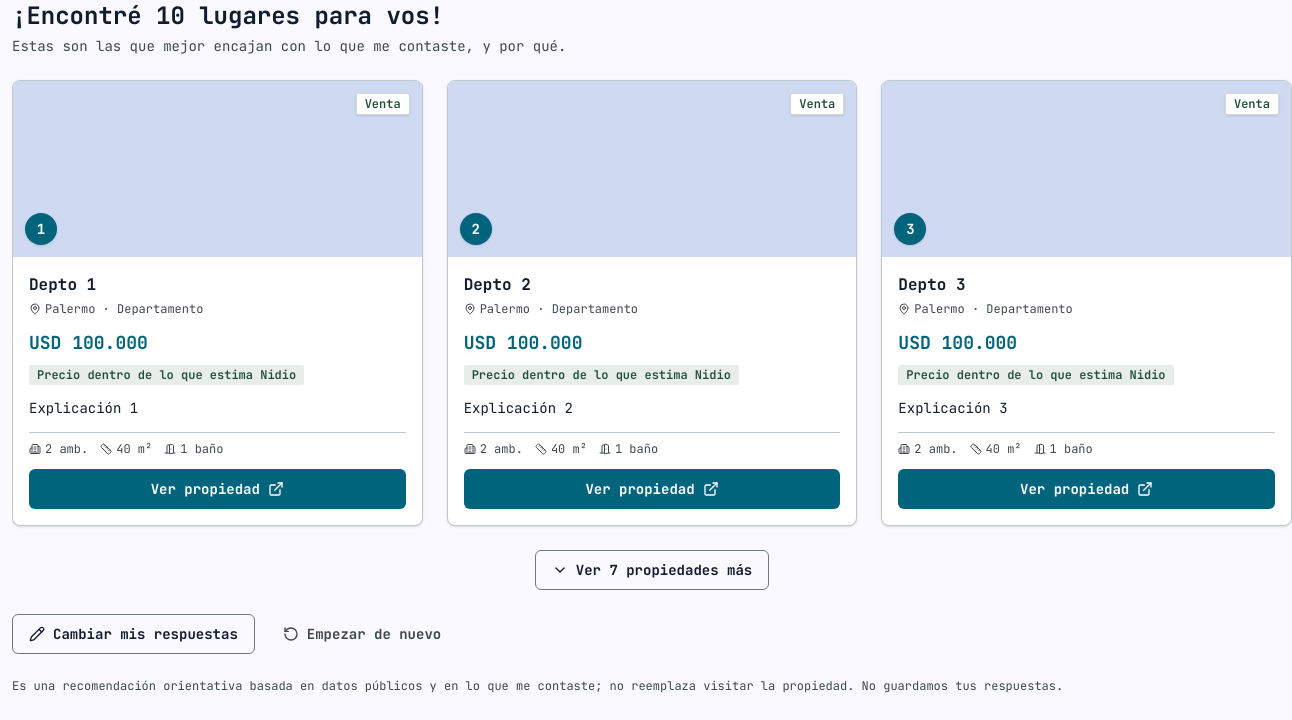
RecommendationResults: más resultados › con pase muestra 3 y un botón para ver el resto, que las muestra todas
Expected: the number of headings "Depto 1" is 3, 29,274 -> 96,295; 464,274 -> 531,295; 898,274 -> 966,295
Click the button "Ver 7 propiedades más": click(652, 570) 535,550 -> 769,590
(page scrolled)
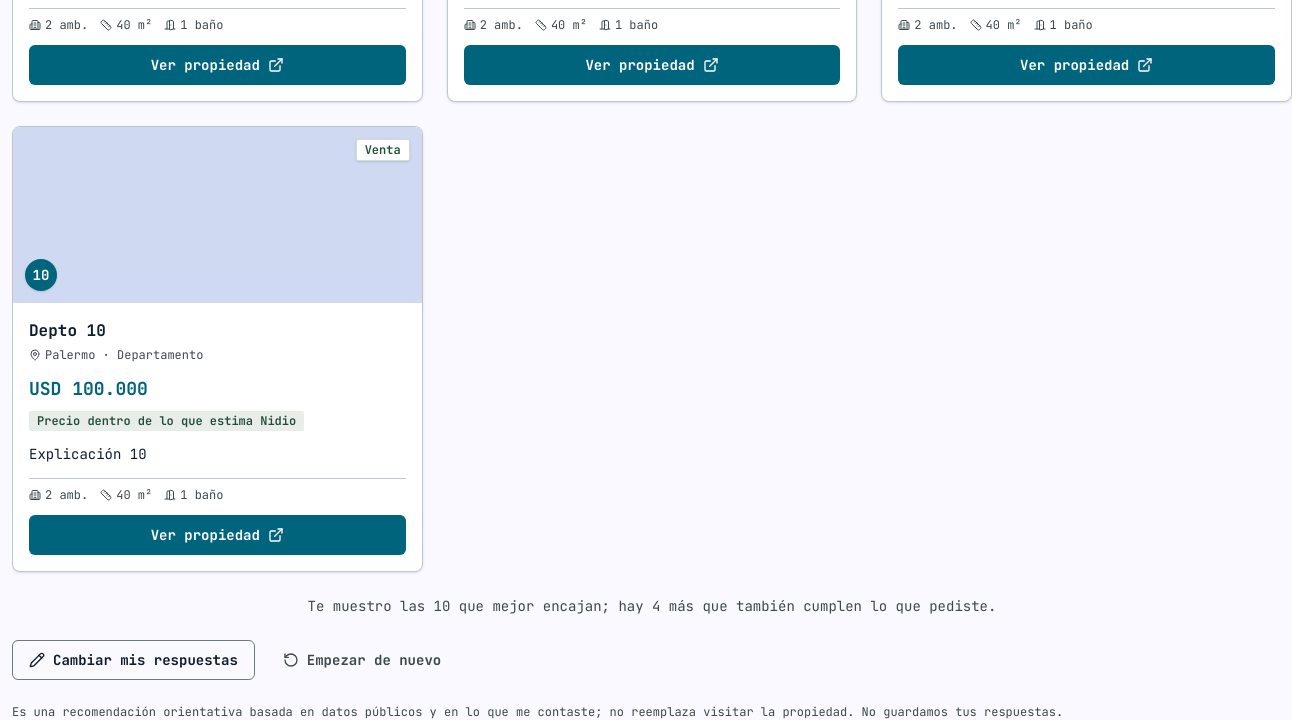
Now the text "Te muestro las 10 que mejor encajan; hay 4 más" is shown, box 308,597 -> 996,615
Now the button "propiedades más" is gone
